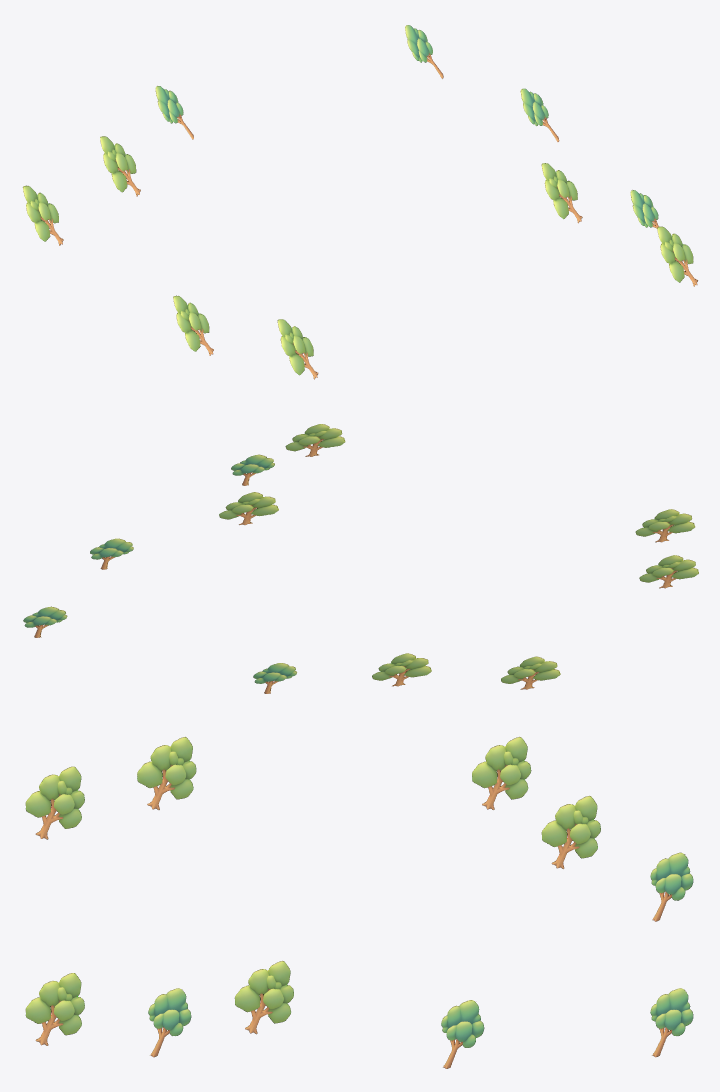
The model's file is preserved-addon.glb.
3 renders of one model, top to bottom at view 1: azimuth 30°, elevation 25°; view 2: azimuth 150°, elevation 25°; view 3: azimuth 270°, elevation 25°, orthographic. The views are drawn at different scales.
Visible parts, largest first — view 1: ENV29:beihai:R29_BEIHAI_SHORE_TREE_03, ENV29:beihai:R29_BEIHAI_SHORE_TREE_09, ENV29:beihai:R29_BEIHAI_SHORE_TREE_08, ENV29:beihai:R29_BEIHAI_SHORE_TREE_02, ENV29:beihai:R29_BEIHAI_SHORE_TREE_06, ENV29:beihai:R29_BEIHAI_SHORE_TREE_05, ENV29:beihai:R29_BEIHAI_SHORE_TREE_01, ENV29:beihai:R29_BEIHAI_SHORE_TREE_04, ENV29:beihai:R29_BEIHAI_SHORE_TREE_07, ENV29:beihai:R29_BEIHAI_SHORE_TREE_10; view 2: ENV29:beihai:R29_BEIHAI_SHORE_TREE_02, ENV29:beihai:R29_BEIHAI_SHORE_TREE_09, ENV29:beihai:R29_BEIHAI_SHORE_TREE_03, ENV29:beihai:R29_BEIHAI_SHORE_TREE_05, ENV29:beihai:R29_BEIHAI_SHORE_TREE_06, ENV29:beihai:R29_BEIHAI_SHORE_TREE_08, ENV29:beihai:R29_BEIHAI_SHORE_TREE_07, ENV29:beihai:R29_BEIHAI_SHORE_TREE_04, ENV29:beihai:R29_BEIHAI_SHORE_TREE_10, ENV29:beihai:R29_BEIHAI_SHORE_TREE_01; view 3: ENV29:beihai:R29_BEIHAI_SHORE_TREE_02, ENV29:beihai:R29_BEIHAI_SHORE_TREE_03, ENV29:beihai:R29_BEIHAI_SHORE_TREE_05, ENV29:beihai:R29_BEIHAI_SHORE_TREE_09, ENV29:beihai:R29_BEIHAI_SHORE_TREE_06, ENV29:beihai:R29_BEIHAI_SHORE_TREE_08, ENV29:beihai:R29_BEIHAI_SHORE_TREE_01, ENV29:beihai:R29_BEIHAI_SHORE_TREE_07, ENV29:beihai:R29_BEIHAI_SHORE_TREE_10, ENV29:beihai:R29_BEIHAI_SHORE_TREE_04.
Boxes of the visible parts, x1,y1,x2,y2 form: ENV29:beihai:R29_BEIHAI_SHORE_TREE_03: (173, 295, 213, 355); ENV29:beihai:R29_BEIHAI_SHORE_TREE_09: (277, 319, 318, 379); ENV29:beihai:R29_BEIHAI_SHORE_TREE_08: (100, 136, 140, 196); ENV29:beihai:R29_BEIHAI_SHORE_TREE_02: (657, 226, 697, 286); ENV29:beihai:R29_BEIHAI_SHORE_TREE_06: (541, 163, 582, 223); ENV29:beihai:R29_BEIHAI_SHORE_TREE_05: (23, 185, 63, 245); ENV29:beihai:R29_BEIHAI_SHORE_TREE_01: (155, 86, 193, 139); ENV29:beihai:R29_BEIHAI_SHORE_TREE_04: (520, 88, 559, 141); ENV29:beihai:R29_BEIHAI_SHORE_TREE_07: (405, 25, 443, 78); ENV29:beihai:R29_BEIHAI_SHORE_TREE_10: (630, 190, 658, 228); ENV29:beihai:R29_BEIHAI_SHORE_TREE_02: (285, 424, 345, 456); ENV29:beihai:R29_BEIHAI_SHORE_TREE_09: (635, 509, 695, 542); ENV29:beihai:R29_BEIHAI_SHORE_TREE_03: (639, 555, 698, 588); ENV29:beihai:R29_BEIHAI_SHORE_TREE_05: (501, 656, 560, 689); ENV29:beihai:R29_BEIHAI_SHORE_TREE_06: (219, 492, 278, 524); ENV29:beihai:R29_BEIHAI_SHORE_TREE_08: (372, 653, 431, 686); ENV29:beihai:R29_BEIHAI_SHORE_TREE_07: (23, 606, 67, 637); ENV29:beihai:R29_BEIHAI_SHORE_TREE_04: (90, 538, 133, 569); ENV29:beihai:R29_BEIHAI_SHORE_TREE_10: (231, 454, 274, 485); ENV29:beihai:R29_BEIHAI_SHORE_TREE_01: (253, 663, 296, 693); ENV29:beihai:R29_BEIHAI_SHORE_TREE_02: (25, 973, 84, 1045); ENV29:beihai:R29_BEIHAI_SHORE_TREE_03: (137, 737, 196, 809); ENV29:beihai:R29_BEIHAI_SHORE_TREE_05: (472, 737, 531, 809); ENV29:beihai:R29_BEIHAI_SHORE_TREE_09: (25, 766, 84, 839); ENV29:beihai:R29_BEIHAI_SHORE_TREE_06: (234, 961, 293, 1034); ENV29:beihai:R29_BEIHAI_SHORE_TREE_08: (541, 796, 600, 868); ENV29:beihai:R29_BEIHAI_SHORE_TREE_01: (650, 852, 693, 921); ENV29:beihai:R29_BEIHAI_SHORE_TREE_07: (650, 988, 693, 1057); ENV29:beihai:R29_BEIHAI_SHORE_TREE_10: (148, 988, 191, 1057); ENV29:beihai:R29_BEIHAI_SHORE_TREE_04: (441, 1000, 484, 1068).
Bounding box in the file's own units: 4.98 × 0.4656 × 4.96.
Materials: 10 (10 with a texture image).
